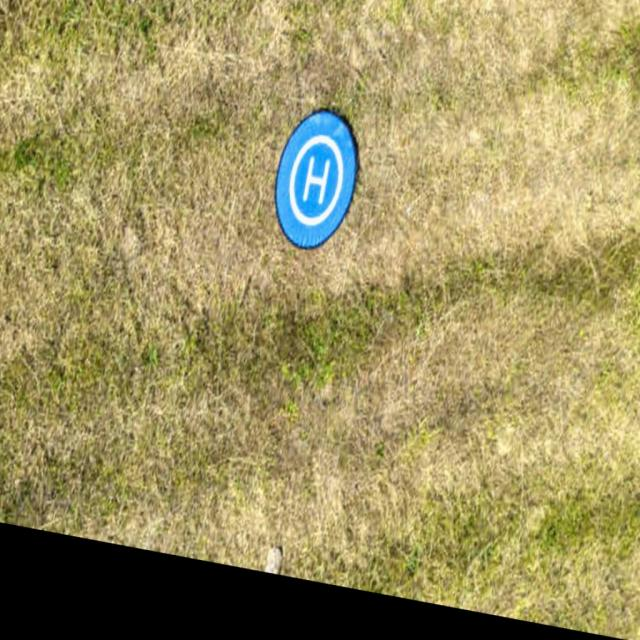helipad: (286, 131, 345, 228)
